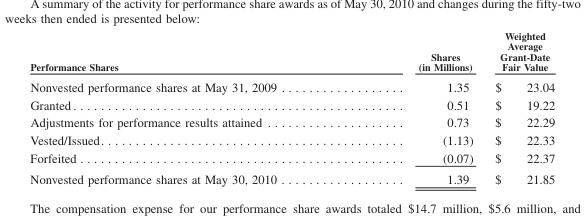table: (29, 28, 554, 186)
table column: (29, 28, 347, 186), (347, 28, 483, 186), (483, 28, 554, 186)
table column header: (29, 28, 554, 75)
table row: (29, 28, 554, 75), (29, 75, 554, 95), (29, 148, 554, 167), (29, 167, 554, 186), (29, 112, 554, 130), (29, 130, 554, 148), (29, 95, 554, 112)
